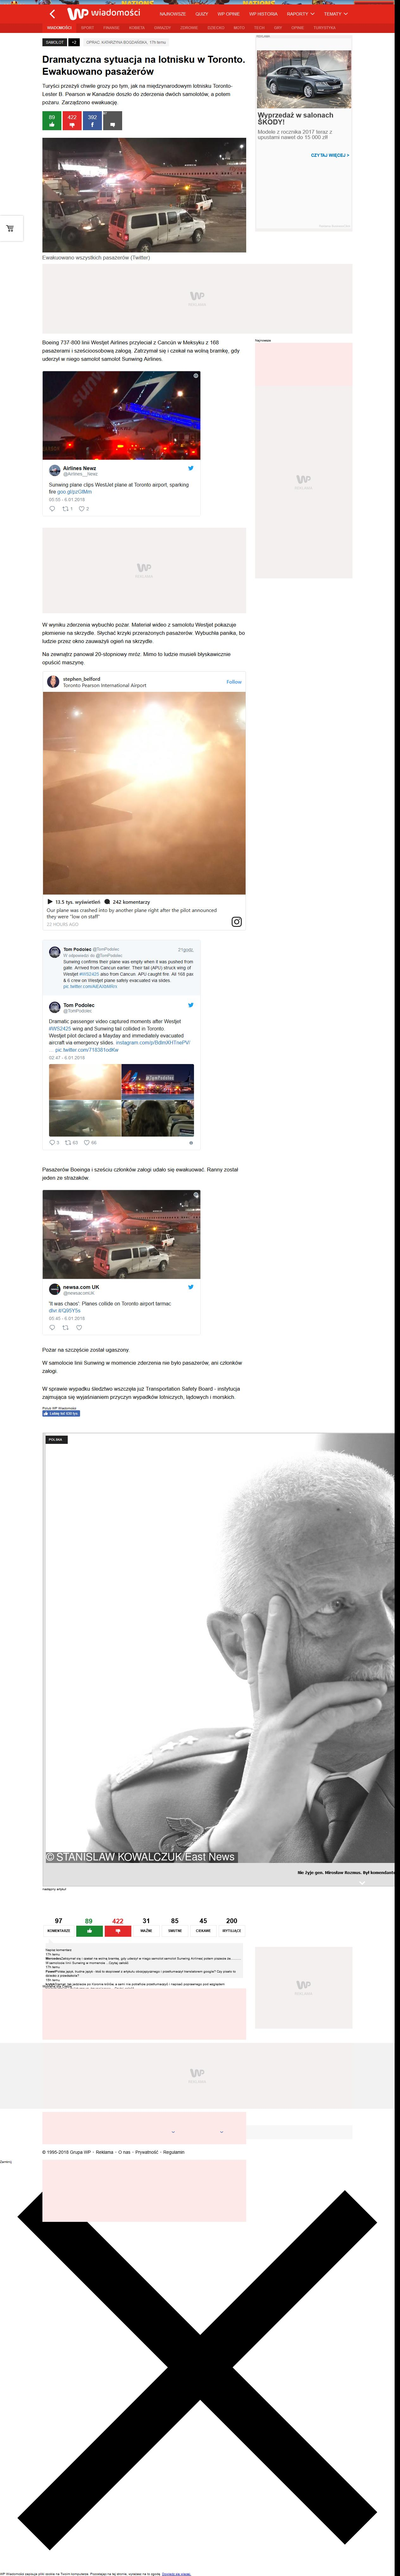title: (43, 54, 244, 76)
